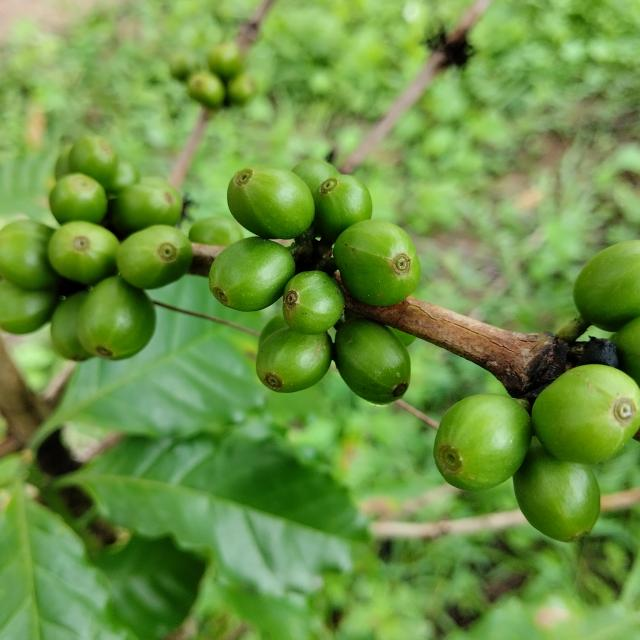green: (533, 365, 640, 465), (434, 394, 533, 491), (514, 438, 601, 543), (333, 219, 421, 306), (334, 317, 411, 405), (76, 276, 155, 360), (209, 236, 295, 312), (227, 165, 315, 239), (574, 240, 640, 332), (256, 326, 332, 393), (116, 225, 193, 289), (47, 220, 119, 284), (110, 176, 182, 235), (282, 270, 345, 335), (0, 220, 58, 290), (314, 174, 372, 241), (0, 279, 56, 334), (48, 172, 107, 224), (50, 291, 92, 361), (68, 135, 117, 187), (291, 158, 340, 196), (614, 317, 640, 386), (188, 216, 243, 246), (258, 312, 288, 348)
